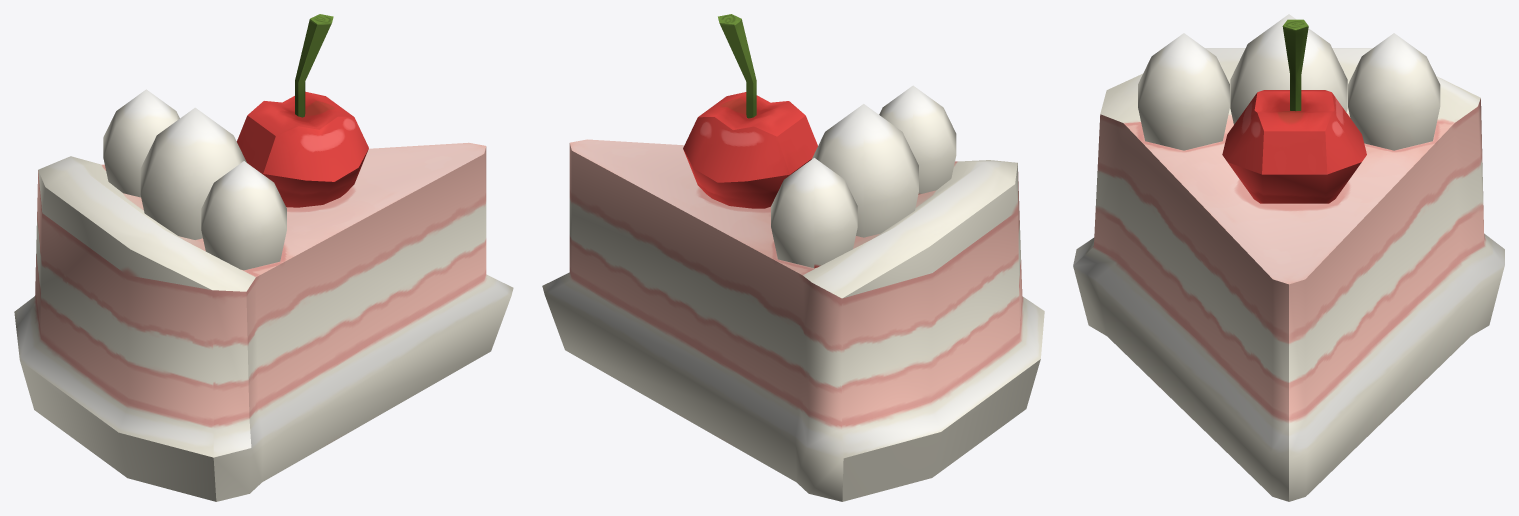
File: cream cake.FBX
The picture shows the model from 3 angles, left to right: view 1: azimuth 30°, elevation 25°; view 2: azimuth 150°, elevation 25°; view 3: azimuth 270°, elevation 25°; orthographic projection. The views are drawn at different scales.
Parts seen in each view (by area): view 1: cream cake; view 2: cream cake; view 3: cream cake.
Part boxes in pixels (x1,y1,x2,y2): cream cake: (14,14,513,501); cream cake: (542,14,1044,501); cream cake: (1073,14,1504,501).
Size of the model in its own units: 5.09 by 3.97 by 3.99.
